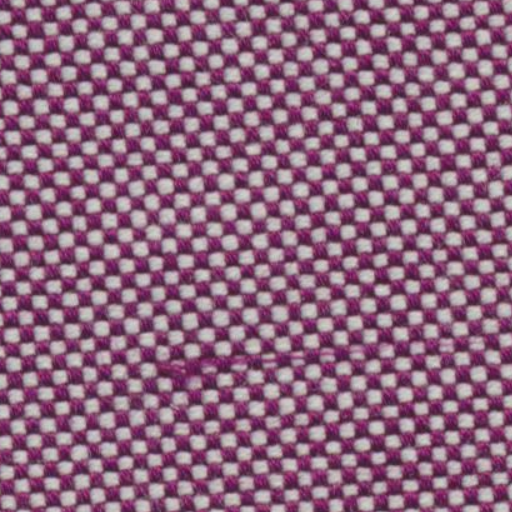DuanSha: (148, 338, 390, 390)
